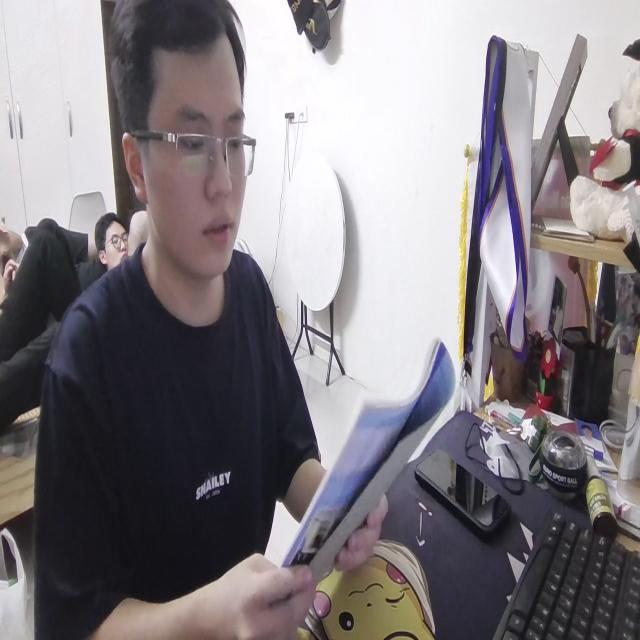book: (278, 328, 458, 612)
phone: (414, 441, 514, 558)
student: (34, 6, 386, 640)
